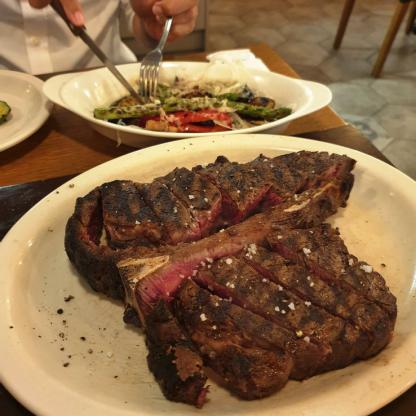Carne: (85, 142, 346, 286), (200, 258, 354, 370), (226, 245, 395, 342), (176, 281, 284, 388), (141, 300, 206, 405)
